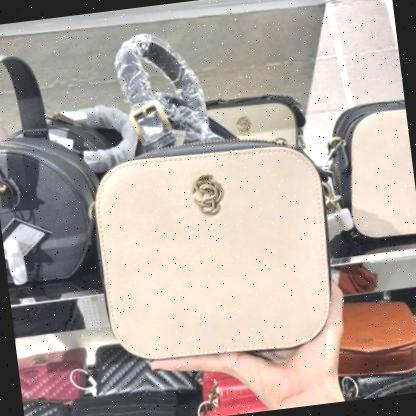bag: (66, 6, 351, 374)
